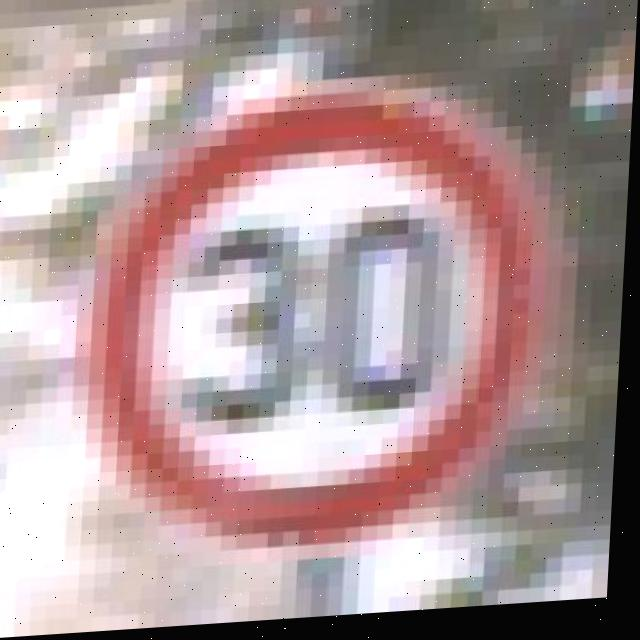Speed limit 30: (90, 72, 551, 557)
